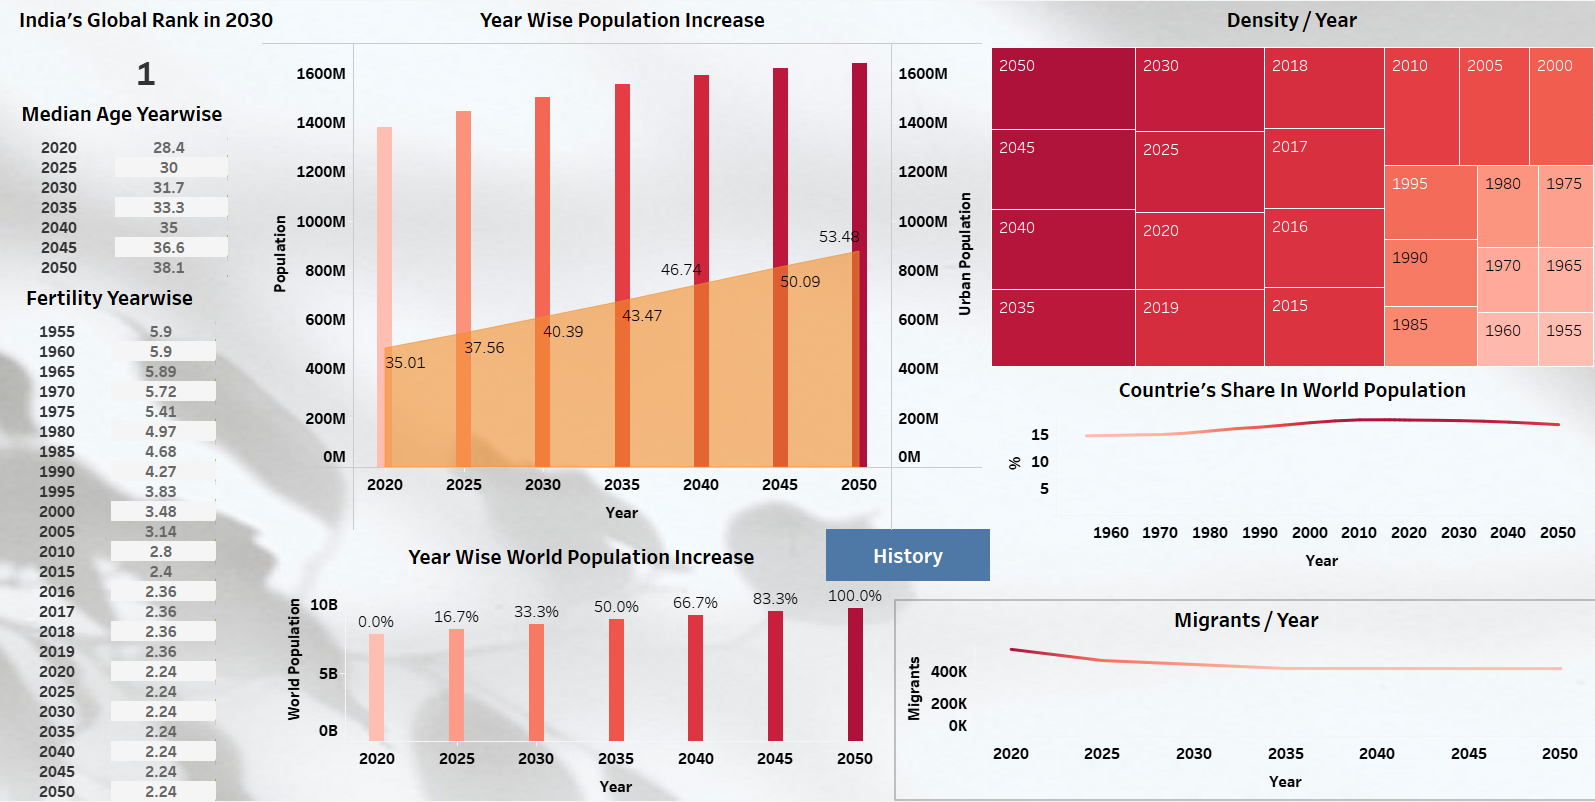

The page's visual inventory and layout, read from the dashboard file:
{"tool":"tableau","page":{"name":"Dashboard 1 (2)","canvas":[1600,800],"ordinal":1},"visuals":[{"type":"image","param":"Image/milad-fakurian-GAnCCU7mqIU-unsplash.jpg","box":[0,0,1600,800]},{"type":"worksheet","title":"KPI","mark":"Automatic","box":[0,0,300,100]},{"type":"worksheet","title":"Sheet 3 (2)","mark":"Bar","rows":["Population","Urban Population"],"cols":["Year"],"box":[266,0,721,530]},{"type":"worksheet","title":"Sheet 8","mark":"Automatic","box":[991,0,610,370]},{"type":"worksheet","title":"Sheet 4 (2)","mark":"Automatic","rows":["Year","Median Age"],"box":[7,94,246,224]},{"type":"worksheet","title":"Sheet 7 (3)","mark":"Automatic","rows":["Country's Share of World Pop"],"cols":["Year"],"box":[1001,370,591,207]},{"type":"dashboard-object","box":[830,528,164,52]},{"type":"worksheet","title":"Sheet 10","mark":"Bar","rows":["World Population"],"cols":["Year"],"box":[280,537,611,266]},{"type":"worksheet","title":"Sheet 7 (2)","mark":"Automatic","rows":["Migrants (net)"],"cols":["Year"],"box":[900,600,701,198]}]}

Visuals, with their boxes in screenshot pixels (x1, y1, x2, y2), scaled from the page's 1600x800 canvas onto the 1595x802 screenshot:
image: box=[0, 0, 1594, 801]
"KPI" worksheet: box=[0, 0, 299, 100]
"Sheet 3 (2)" worksheet (Bar marks): box=[265, 0, 984, 531]
"Sheet 8" worksheet: box=[988, 0, 1594, 371]
"Sheet 4 (2)" worksheet: box=[7, 94, 252, 319]
"Sheet 7 (3)" worksheet: box=[998, 371, 1587, 578]
dashboard-object: box=[827, 529, 991, 581]
"Sheet 10" worksheet (Bar marks): box=[279, 538, 888, 801]
"Sheet 7 (2)" worksheet: box=[897, 602, 1594, 800]
